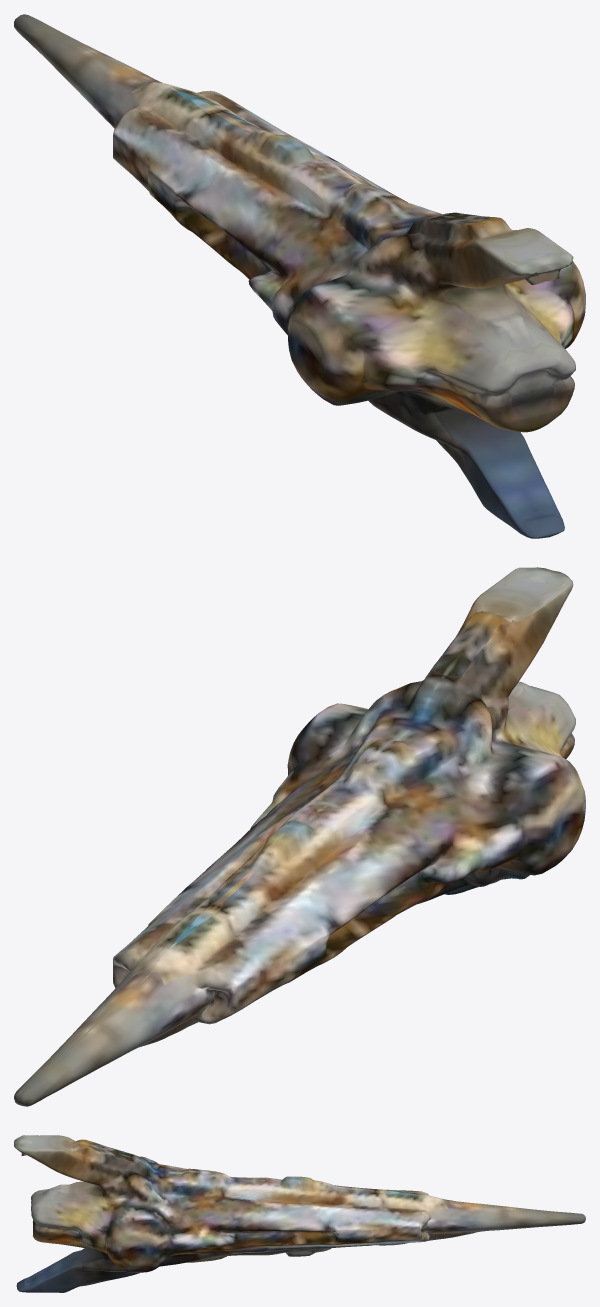
The model's file is solarion_frigate.glb.
The picture shows the model from 3 angles, top to bottom: view 1: azimuth 30°, elevation 25°; view 2: azimuth 150°, elevation 25°; view 3: azimuth 270°, elevation 25°; orthographic projection. The views are drawn at different scales.
Visible parts, largest first — view 1: solarion_cruiser; view 2: solarion_cruiser; view 3: solarion_cruiser.
Boxes of the visible parts, bbox=[...] form: solarion_cruiser: bbox=[14, 14, 585, 538]; solarion_cruiser: bbox=[14, 567, 585, 1106]; solarion_cruiser: bbox=[14, 1135, 585, 1292].
Bounding box in the file's own units: 0.0416 × 0.0417 × 0.1454.
1 material, 1 textured.
